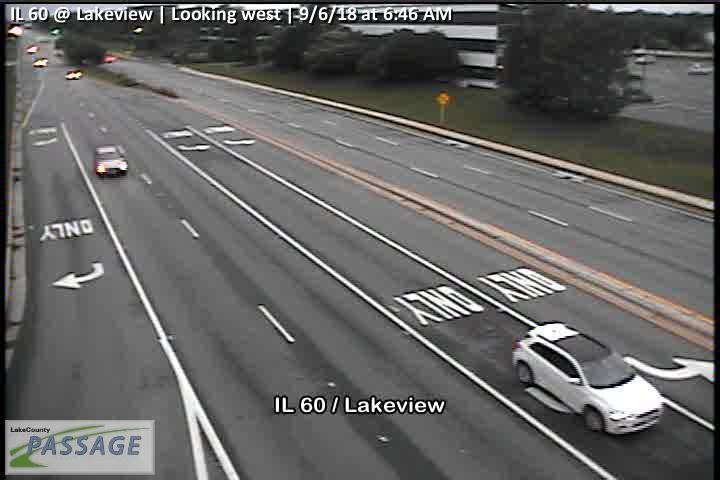SUV: (510, 320, 667, 436)
Sedan: (95, 145, 129, 177)
